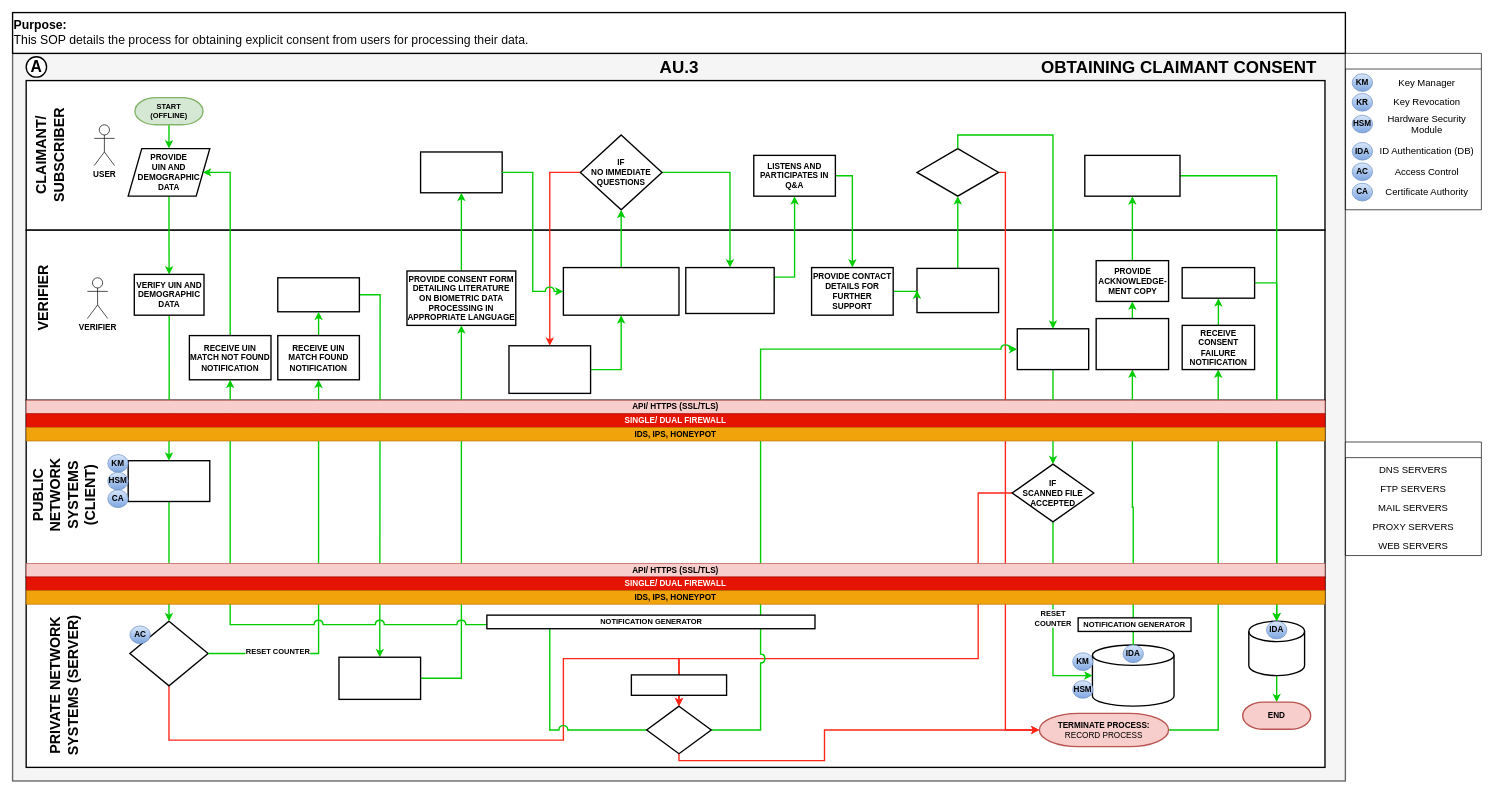
Image size: 1493x793. Some labels were removed from this diagram. The box of each missing label's shape, as (x1, y1, x2, y2) in pixels:
CLARIFIES QUESTIONS: (508, 345, 591, 394)
ENTERS REASON & COMMENTS: (1181, 267, 1255, 299)
EXCEPTION AND ERROR HANDLING (COUNTER): (630, 674, 727, 696)
IF CONSENT PROVIDED: (916, 148, 999, 197)
IF RETRY COUNT <=3: (646, 705, 712, 754)
IF UIN AND DEMOGRAPHIC DATA MATCH: (129, 620, 208, 686)
INITIATE CONSENT REQUEST: (277, 277, 360, 312)
INITIATE CONSENT REQUEST FOR UIN: (338, 656, 421, 700)
LEGEND: (1345, 53, 1481, 210)
LOG THE PROCESS AND STATUS: (1248, 620, 1305, 676)
MASK & ENCRYPT UIN AND PASSWORD FOR AUTHENTICATION: (127, 460, 210, 502)
ORALLY EXPLAINS LITEATURE OFFERING Q&A: (685, 267, 775, 314)
PUBLIC NETWORK: (1345, 441, 1481, 556)
RECEIVE ACKNOWLEDGEMENT: (1084, 154, 1180, 197)
RECEIVE CONSENT UPLOAD SUCCESSFUL NOTIFICATION: (1095, 318, 1169, 370)
RECEIVES & READS THE LITERATURE: (420, 151, 503, 193)
REQUEST EXPLICIT CONSENT AS SIGNATURE OR THUMBPRINT: (916, 267, 999, 313)
SCAN AND UPLOAD CONSENT FORM: (1016, 328, 1089, 370)
STORE CONSENT FORM DETAILS IN UIN ACCOUNT: (1091, 644, 1174, 707)
WAITS FOR CLAIMANT TO READ AND OFFERS SUPPORT FOR ANY IMMEDIATE QUESTION: (562, 267, 679, 316)
